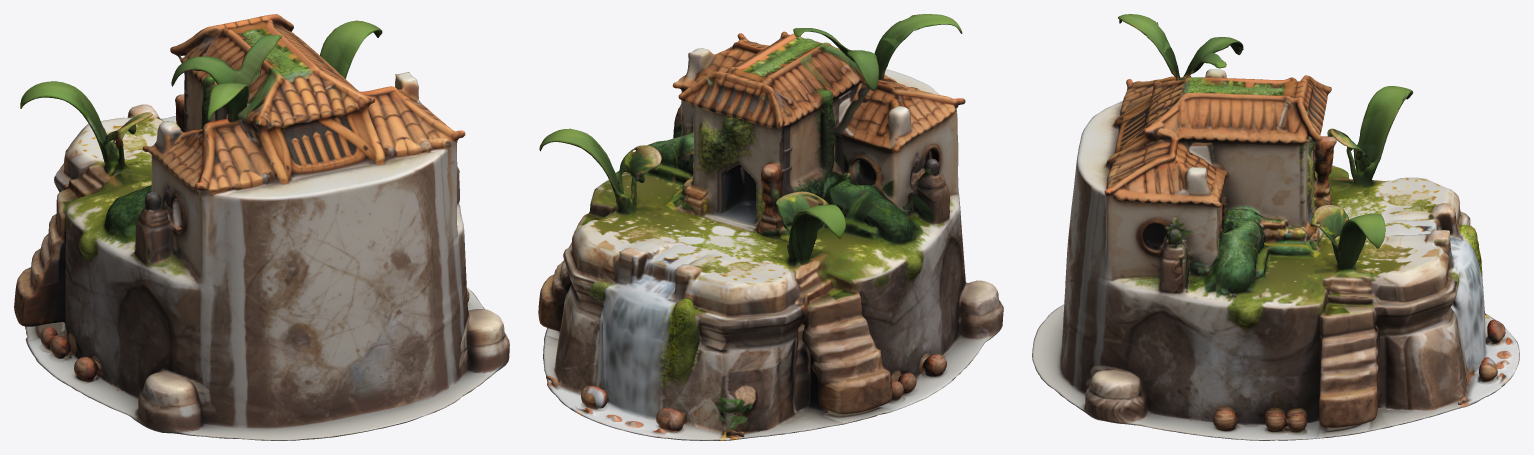
The model's file is old_house_lev2.glb.
3 views of the same model, side by side, from view 1: azimuth 30°, elevation 25°; view 2: azimuth 150°, elevation 25°; view 3: azimuth 270°, elevation 25° (orthographic). The views are drawn at different scales.
Parts seen in each view (by area): view 1: model_0.007; view 2: model_0.007; view 3: model_0.007.
Boxes of the visible parts, x1,y1,x2,y2 form: model_0.007: [14, 14, 509, 440]; model_0.007: [538, 14, 1003, 440]; model_0.007: [1032, 14, 1519, 440].
Bounding box in the file's own units: 37.43 × 28.56 × 43.8.
1 material, 1 textured.
